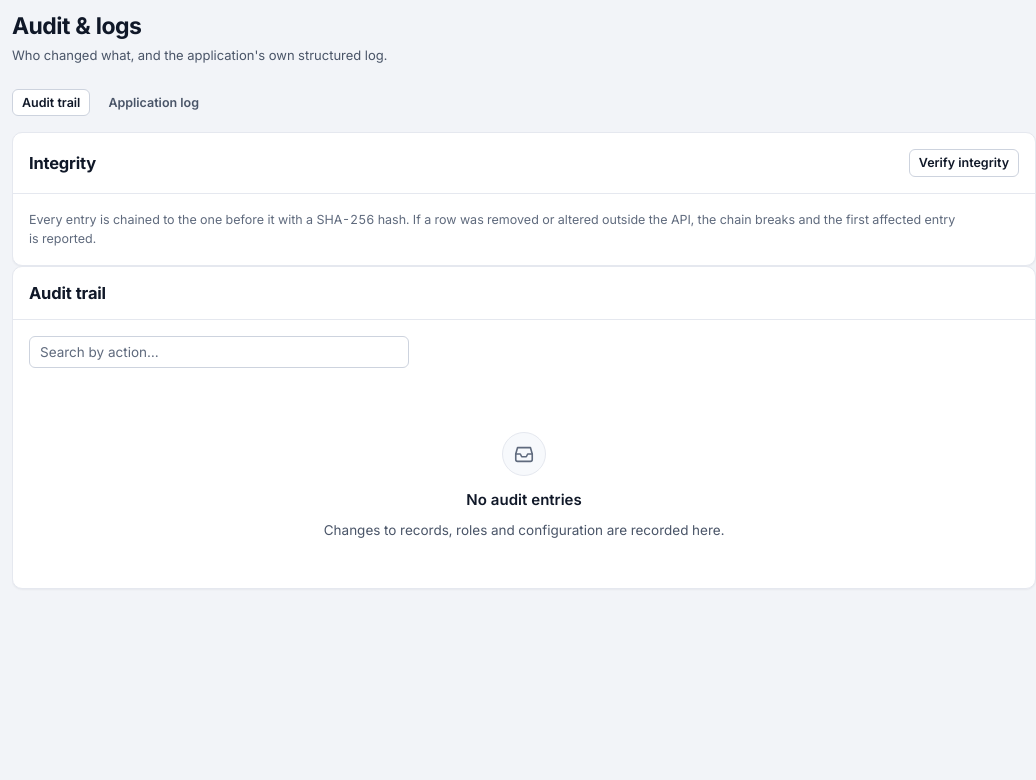
Scenario: AuditPage integrity check › reports an intact chain with the number of entries verified
The image size is (1036, 780).
Click the button "Verify integrity".
click(964, 163)  # box [909,149,1019,177]
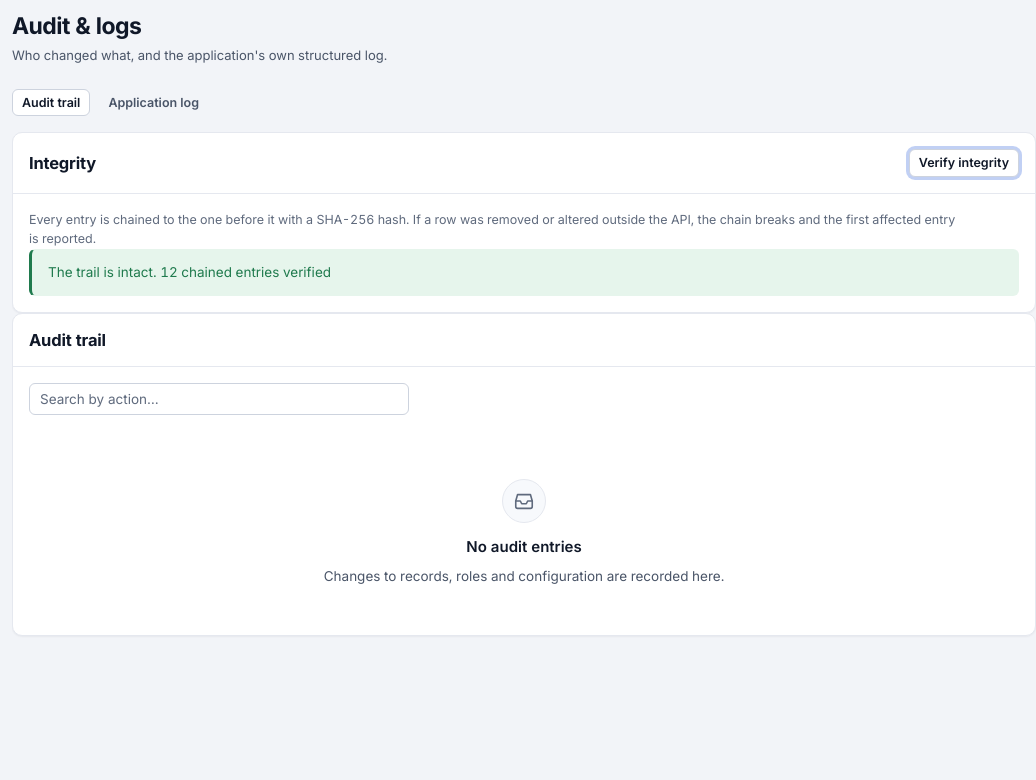
Now the text "The trail is intact. 12 chained entries verified" is shown, box [48,264,331,280]
